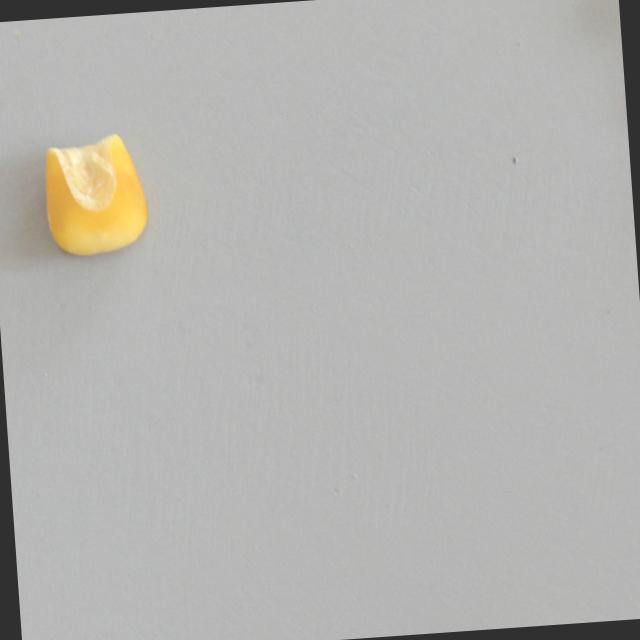no_desgerminado: (38, 131, 149, 258)
